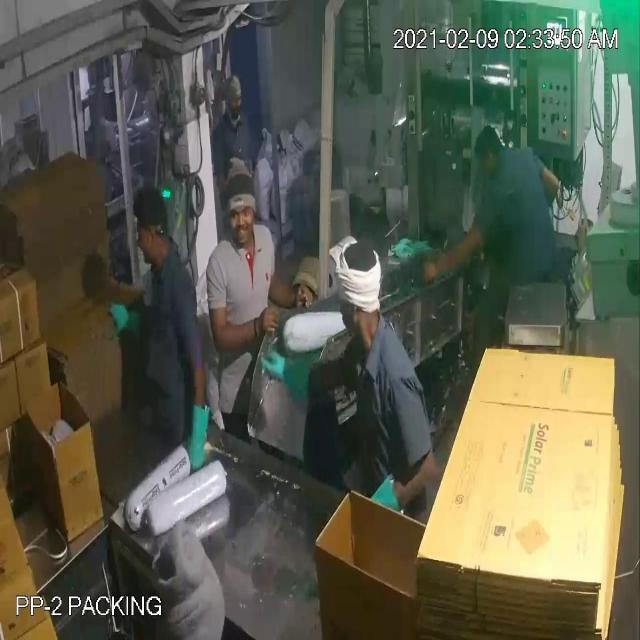Gloves: (43, 54, 453, 438)
